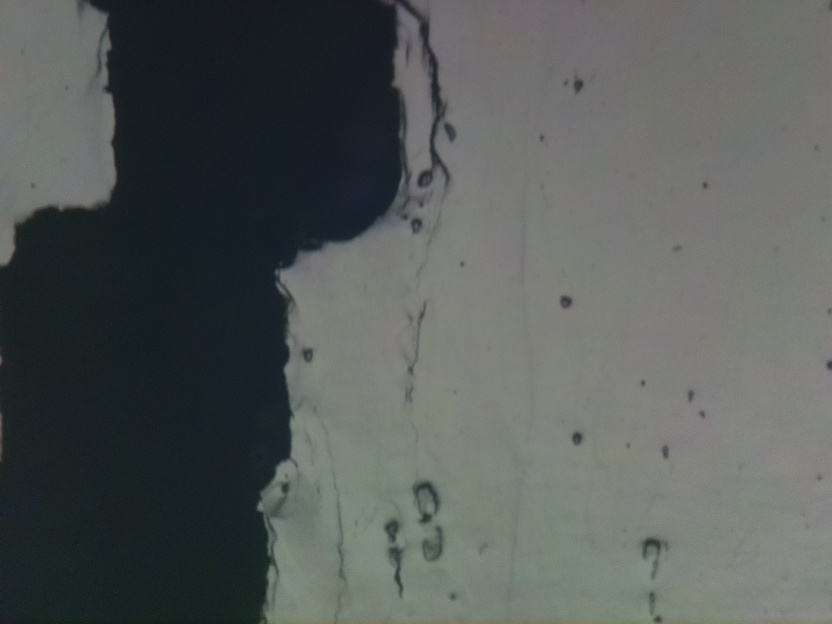crack: (0, 0, 401, 624)
